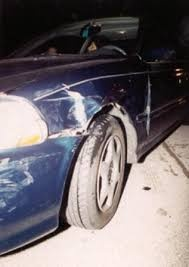Dent: (41, 82, 98, 146)
Scratch: (1, 151, 57, 213)
